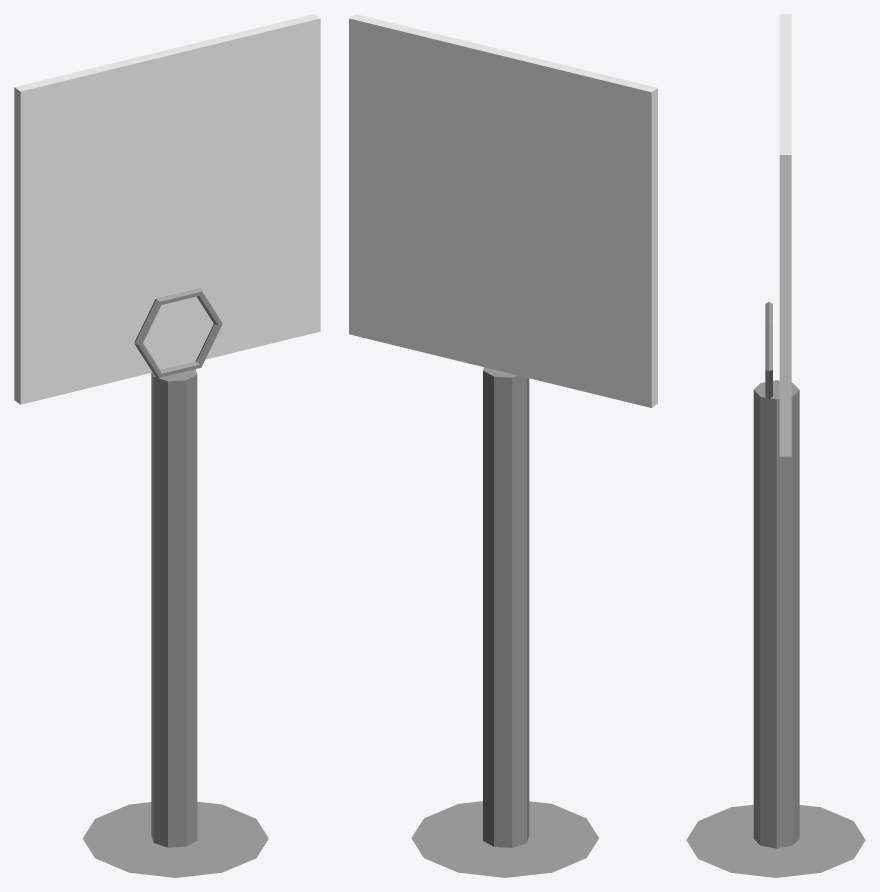
File: orderStand.fbx
3 renders of one model, left to right at view 1: azimuth 30°, elevation 25°; view 2: azimuth 150°, elevation 25°; view 3: azimuth 270°, elevation 25°, orthographic. The views are drawn at different scales.
Visible parts, largest first — view 1: orderStand; view 2: orderStand; view 3: orderStand.
Boxes of the visible parts, left/top/right/bottom form: orderStand: left=14, top=14, right=320, bottom=877; orderStand: left=349, top=14, right=657, bottom=877; orderStand: left=686, top=14, right=865, bottom=877.
Bounding box in the file's own units: 34.61 × 86.3 × 18.61.
